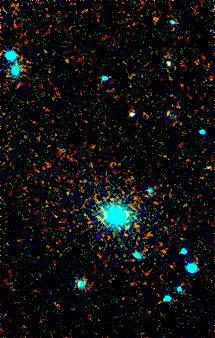star: (153, 46, 183, 76)
